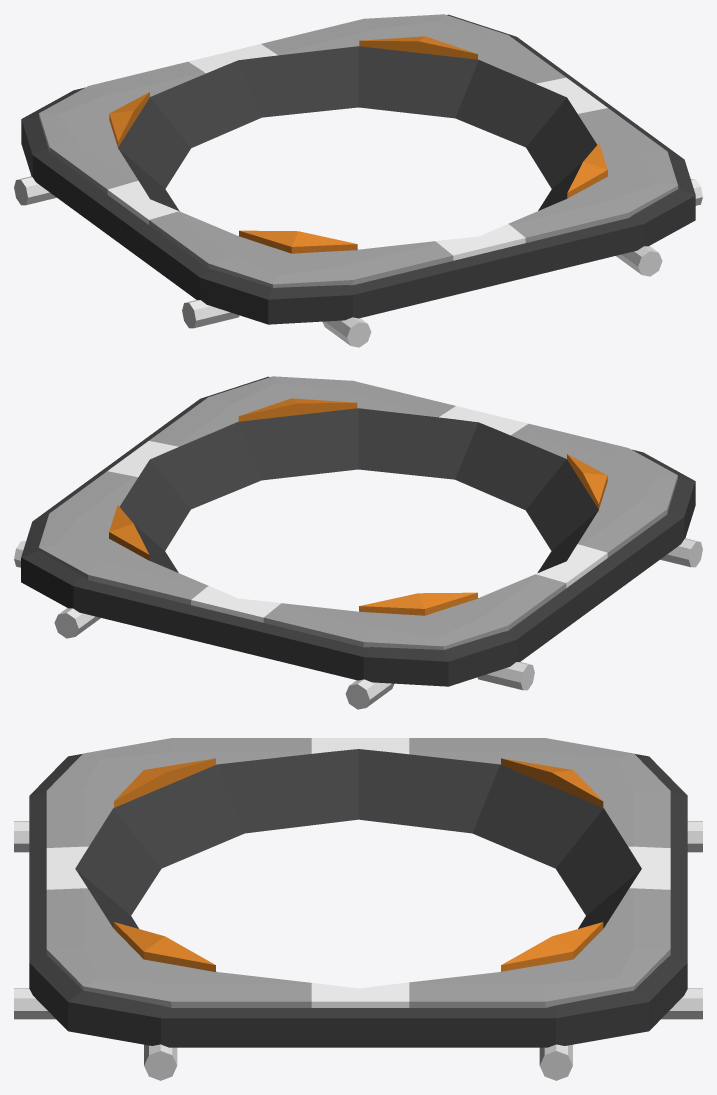
File: Collection Vacuum.fbx
3 views of the same model, one above another, from view 1: azimuth 30°, elevation 25°; view 2: azimuth 150°, elevation 25°; view 3: azimuth 270°, elevation 25° (orthographic). The views are drawn at different scales.
Visible parts, largest first — view 1: Cube.003; view 2: Cube.003; view 3: Cube.003.
Boxes of the visible parts, x1,y1,x2,y2 form: Cube.003: (14,14,702,347); Cube.003: (14,376,702,709); Cube.003: (14,738,702,1080).
Bounding box in the file's own units: 551 × 71.43 × 551.
